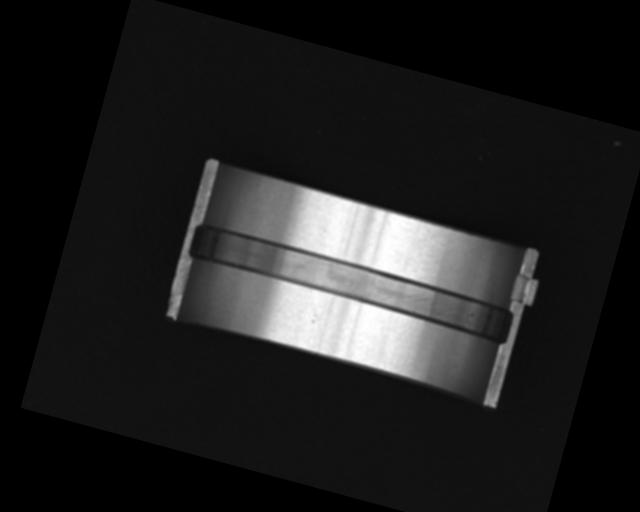gap: (185, 220, 518, 345)
